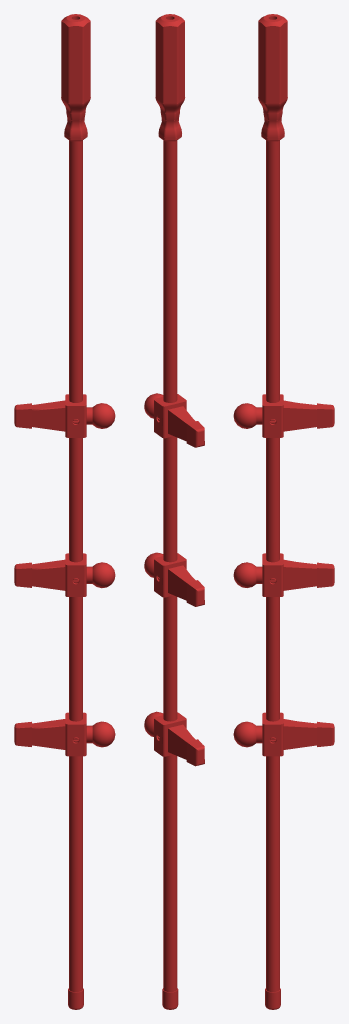
File: 3-bar-centered_team_1.obj
The picture shows the model from 3 angles, left to right: view 1: azimuth 90°, elevation 25°; view 2: azimuth 210°, elevation 25°; view 3: azimuth 270°, elevation 25°; orthographic projection.
Parts seen in each view (by area): view 1: 3-bar; view 2: 3-bar; view 3: 3-bar.
Part boxes in pixels (<box>): 3-bar: <box>14,14,115,1009</box>; 3-bar: <box>144,14,204,1009</box>; 3-bar: <box>233,14,334,1009</box>.
Bounding box in the file's own units: 0.032 × 1.24 × 0.115.
